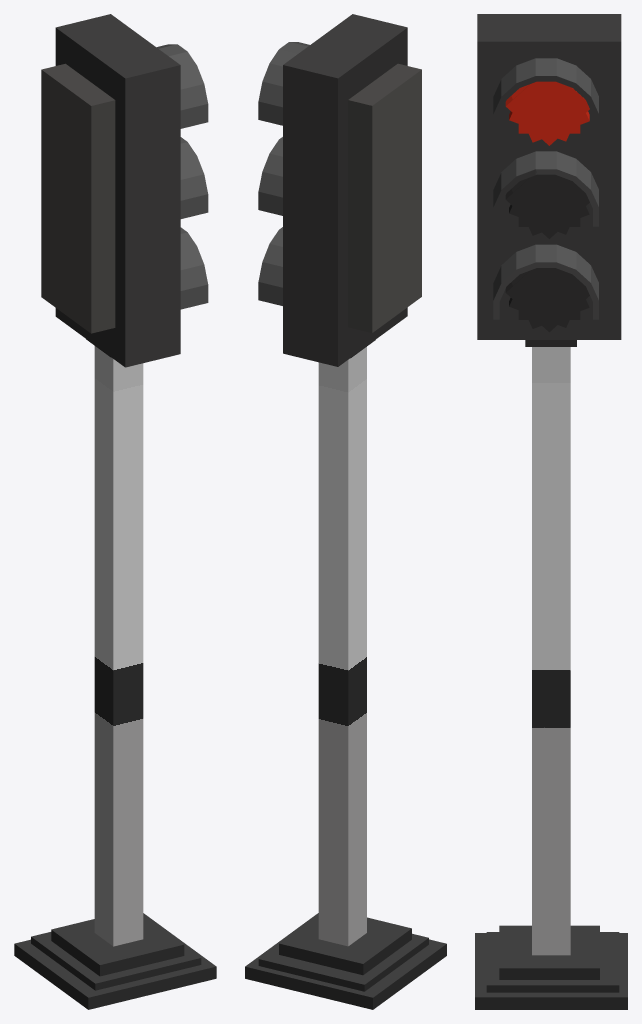
Rendered from red_light.glb.
3 views of the same model, side by side, from view 1: azimuth 30°, elevation 25°; view 2: azimuth 150°, elevation 25°; view 3: azimuth 270°, elevation 25° (orthographic). The views are drawn at different scales.
Parts seen in each view (by area): view 1: cube_198, cube_177, cube_194, cube_195, cube_197, cube_196, hexadecagon_171, hexadecagon_162, hexadecagon_153, hexadecagon_154, hexadecagon_172, hexadecagon_163; view 2: cube_198, cube_177, cube_194, cube_197, cube_195, cube_196, hexadecagon_159, hexadecagon_150, hexadecagon_168, hexadecagon_158, hexadecagon_176, hexadecagon_167; view 3: cube_177, cube_198, cube_197, cube_195, cube_196, cube_182, cube_192, cube_187, hexadecagon_156, hexadecagon_174, hexadecagon_165, hexadecagon_155 (+11 smaller).
Boxes of the visible parts, x1,y1,x2,y2 form: cube_198: (94, 346, 143, 946); cube_177: (55, 14, 180, 367); cube_194: (41, 63, 115, 333); cube_195: (14, 913, 216, 1009); cube_197: (51, 915, 184, 976); cube_196: (31, 932, 201, 990); hexadecagon_171: (180, 174, 207, 200); hexadecagon_162: (180, 84, 207, 110); hexadecagon_153: (180, 264, 207, 290); hexadecagon_154: (180, 284, 208, 309); hexadecagon_172: (180, 194, 208, 218); hexadecagon_163: (180, 104, 208, 128); cube_198: (318, 347, 366, 946); cube_177: (283, 14, 407, 366); cube_194: (348, 63, 421, 332); cube_197: (279, 914, 411, 975); cube_195: (245, 913, 446, 1009); cube_196: (258, 933, 428, 991); hexadecagon_159: (258, 81, 282, 107); hexadecagon_150: (258, 262, 282, 287); hexadecagon_168: (258, 172, 282, 197); hexadecagon_158: (258, 282, 282, 305); hexadecagon_176: (258, 191, 282, 215); hexadecagon_167: (258, 101, 282, 125); cube_177: (477, 14, 621, 339); cube_198: (532, 347, 570, 955); cube_197: (499, 925, 599, 979); cube_195: (475, 933, 627, 1009); cube_196: (486, 932, 619, 992); cube_182: (505, 174, 589, 238); cube_192: (505, 81, 589, 145); cube_187: (505, 268, 589, 332); hexadecagon_156: (535, 244, 556, 267); hexadecagon_174: (535, 151, 556, 174); hexadecagon_165: (535, 58, 556, 81); hexadecagon_155: (554, 245, 576, 274).
Size of the model in its own units: 0.1486 by 1.02 by 0.148.
Materials: 1 (1 with a texture image).
